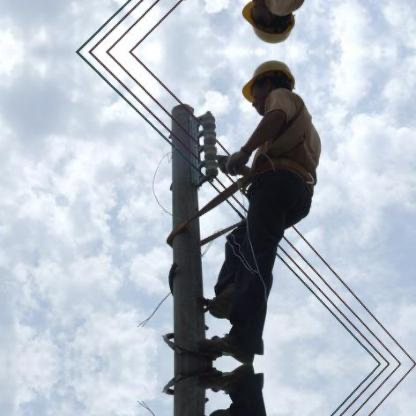Safety Helmet: (240, 57, 305, 110), (239, 1, 303, 45)
